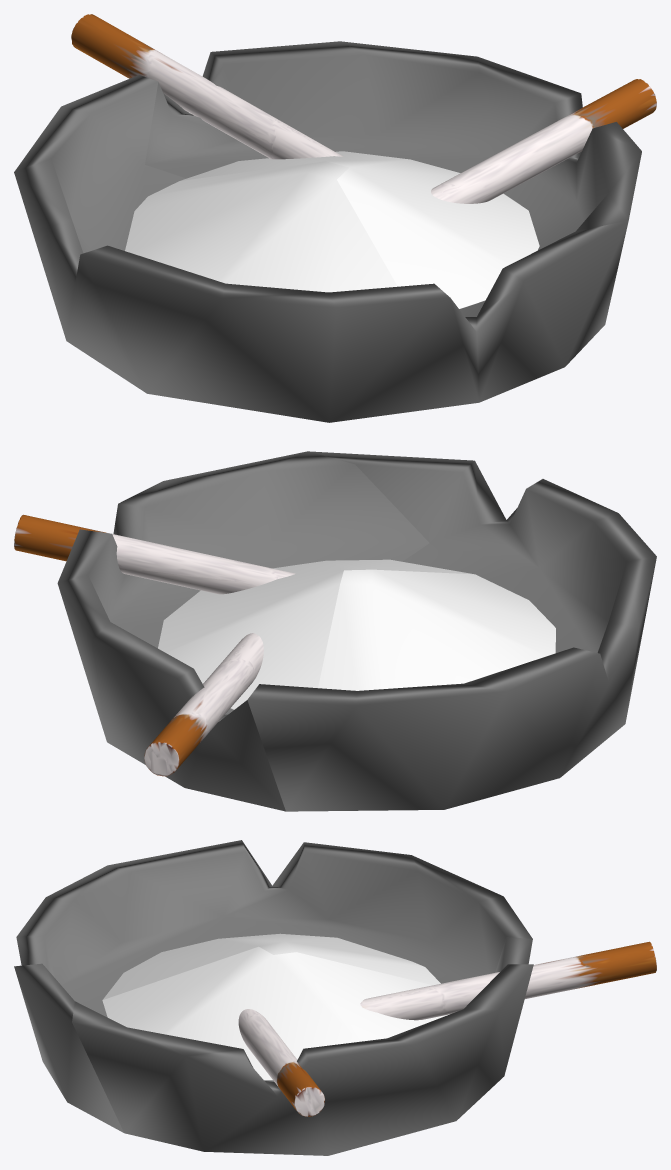
File: AshTrayFull.fbx
3 renders of one model, top to bottom at view 1: azimuth 30°, elevation 25°; view 2: azimuth 150°, elevation 25°; view 3: azimuth 270°, elevation 25°, orthographic. The views are drawn at different scales.
Parts seen in each view (by area): view 1: MainBody, Ash, Cigarette1, Cigarette 2; view 2: MainBody, Ash, Cigarette 2, Cigarette1; view 3: MainBody, Ash, Cigarette1, Cigarette 2.
Part boxes in pixels (x1,y1,x2,y2): MainBody: (14, 41, 641, 422); Ash: (125, 151, 539, 309); Cigarette1: (71, 14, 342, 159); Cigarette 2: (431, 79, 656, 203); MainBody: (57, 451, 656, 811); Ash: (158, 559, 555, 709); Cigarette 2: (14, 514, 295, 594); Cigarette1: (144, 633, 263, 776); MainBody: (14, 840, 533, 1155); Ash: (102, 933, 449, 1080); Cigarette1: (360, 941, 656, 1020); Cigarette 2: (238, 1009, 325, 1116).
Bounding box in the file's own units: 19 × 3.96 × 20.83.
